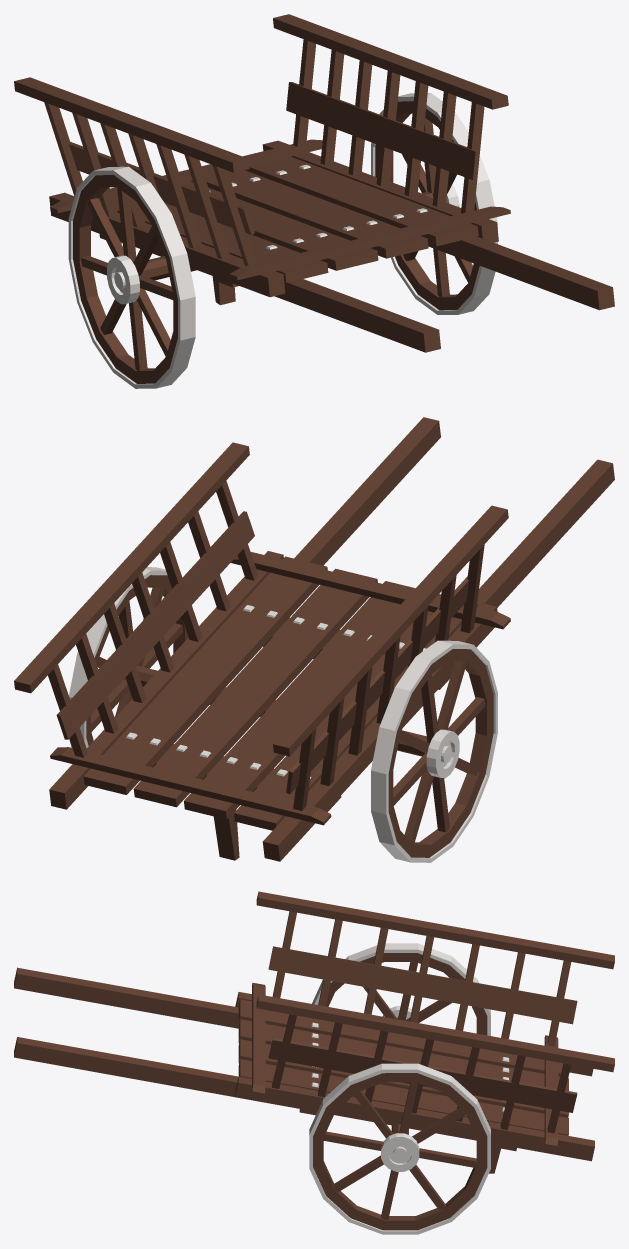
Rendered from Cart.fbx.
3 renders of one model, top to bottom at view 1: azimuth 30°, elevation 25°; view 2: azimuth 150°, elevation 25°; view 3: azimuth 270°, elevation 25°, orthographic. The views are drawn at different scales.
Visible parts, largest first — view 1: Cart; view 2: Cart; view 3: Cart.
Boxes of the visible parts, <box> form: Cart: <box>14,14,614,388</box>; Cart: <box>14,417,614,862</box>; Cart: <box>14,891,614,1234</box>.
Size of the model in its own units: 2.1 by 1.69 by 4.08.
